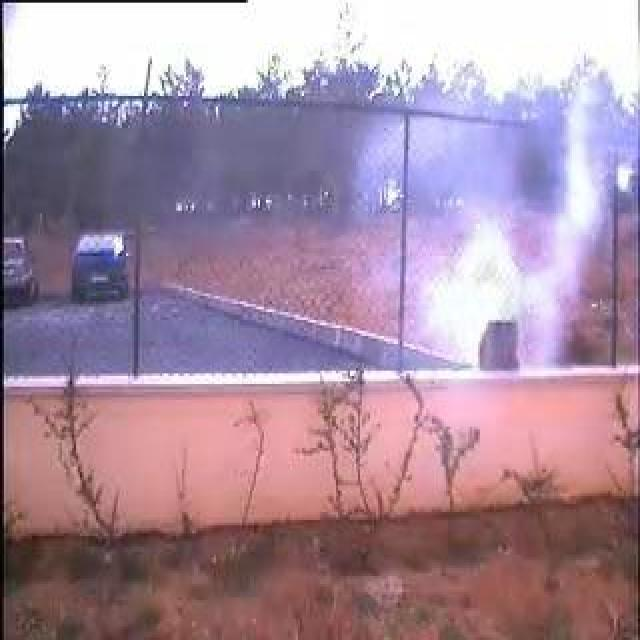Smoke: (411, 76, 609, 367)
